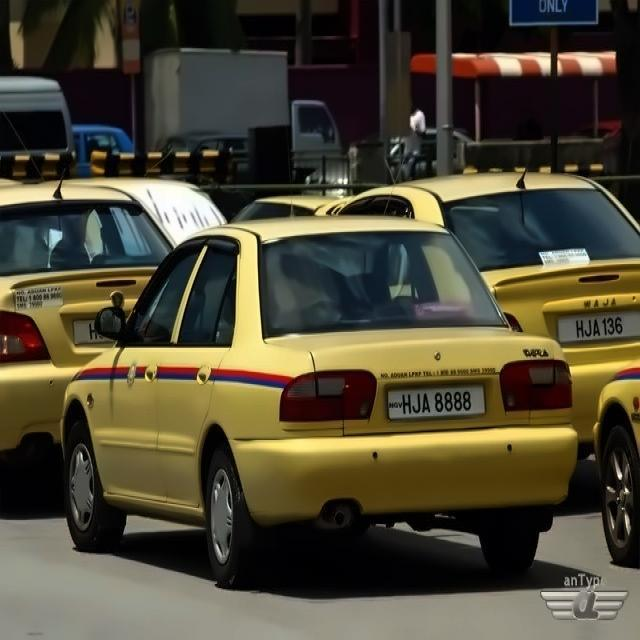car-plate: (386, 383, 486, 425), (556, 304, 640, 344), (70, 316, 116, 348)
